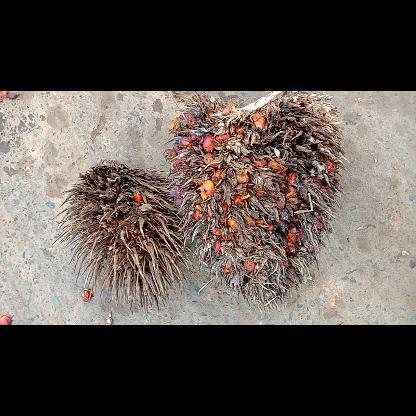Janjang kosong: (51, 159, 194, 313)
Terlalu masak: (164, 90, 346, 312)
